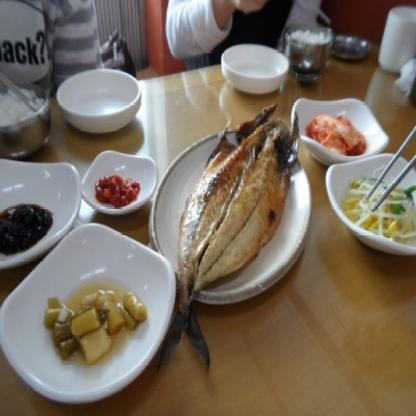Peixe: (172, 116, 306, 347)
